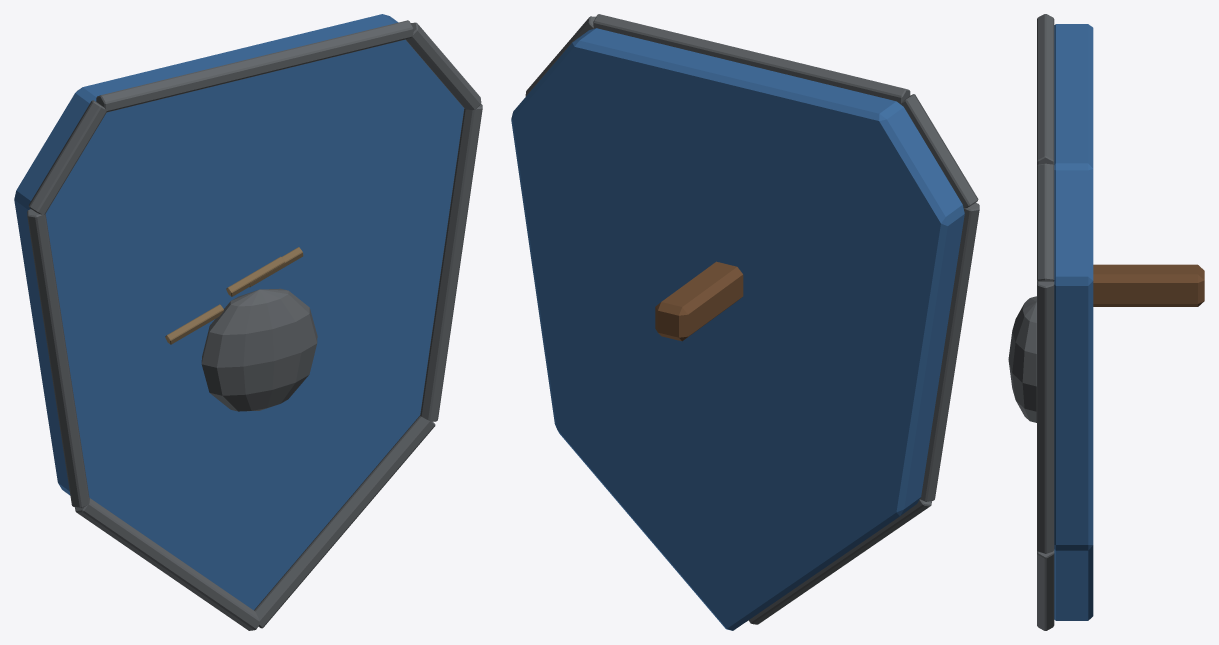
File: runtime.glb
3 renders of one model, left to right at view 1: azimuth 30°, elevation 25°; view 2: azimuth 150°, elevation 25°; view 3: azimuth 270°, elevation 25°, orthographic. The views are drawn at different scales.
Visible parts, largest first — view 1: falkenwacht-wall-shield-v09_nocol; view 2: falkenwacht-wall-shield-v09_nocol; view 3: falkenwacht-wall-shield-v09_nocol.
Boxes of the visible parts, x1,y1,x2,y2 form: falkenwacht-wall-shield-v09_nocol: (14,14,482,630); falkenwacht-wall-shield-v09_nocol: (511,14,979,630); falkenwacht-wall-shield-v09_nocol: (1008,14,1204,630).
Bounding box in the file's own units: 1.52 × 1.83 × 0.5988.
